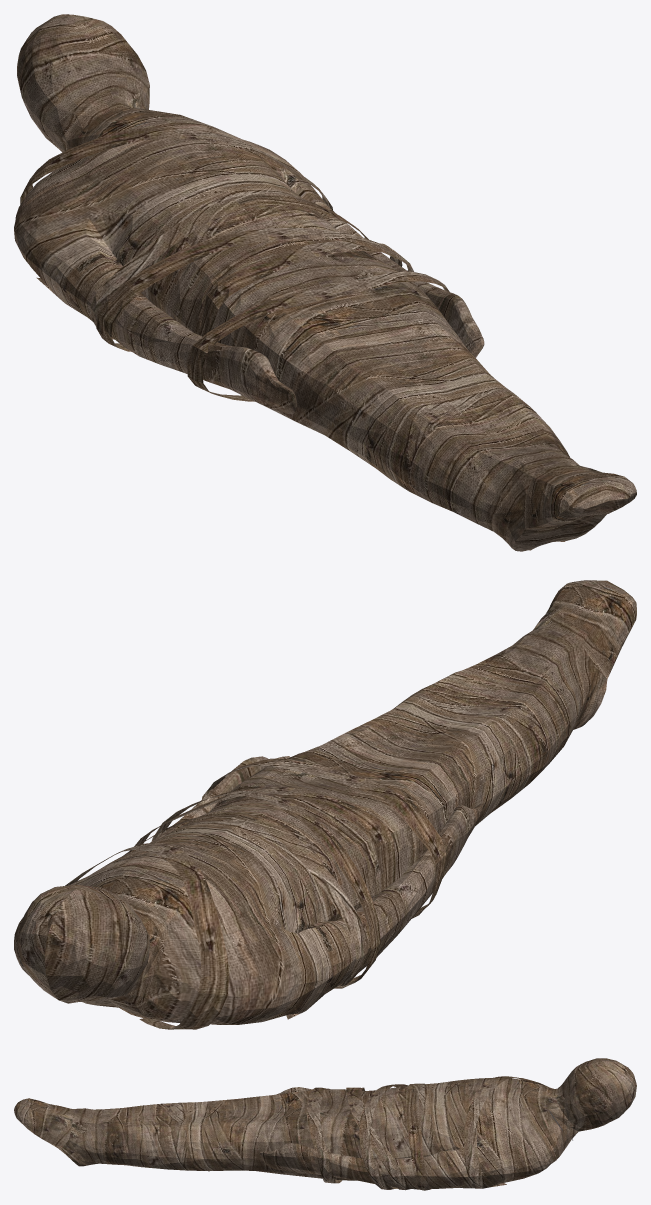
Rendered from mummy.fbx.
3 views of the same model, one above another, from view 1: azimuth 30°, elevation 25°; view 2: azimuth 150°, elevation 25°; view 3: azimuth 270°, elevation 25° (orthographic). The views are drawn at different scales.
Parts seen in each view (by area): view 1: Component1; view 2: Component1; view 3: Component1.
Part boxes in pixels (box(x1,y1,x2,y2)): Component1: box(14, 14, 636, 551); Component1: box(14, 580, 636, 1029); Component1: box(14, 1058, 636, 1190).
Size of the model in its own units: 20.39 by 13.89 by 72.19.
